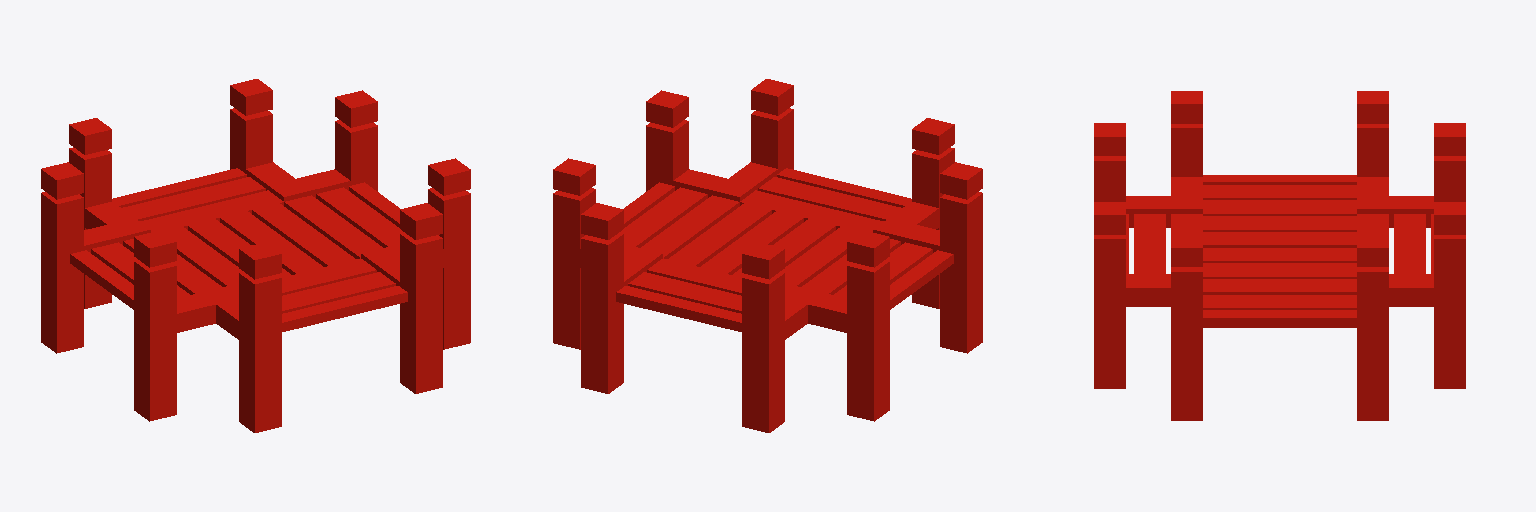
3 views of the same model, side by side, from view 1: azimuth 30°, elevation 25°; view 2: azimuth 150°, elevation 25°; view 3: azimuth 270°, elevation 25° (orthographic).
Parts seen in each view (by area): view 1: cube; view 2: cube; view 3: cube.
Boxes of the visible parts, <box> form: cube: <box>41,79,470,432</box>; cube: <box>553,79,982,432</box>; cube: <box>1094,91,1465,420</box>.
Bounding box in the file's own units: 1.09 × 0.5625 × 1.09.
1 materials, 1 textured.